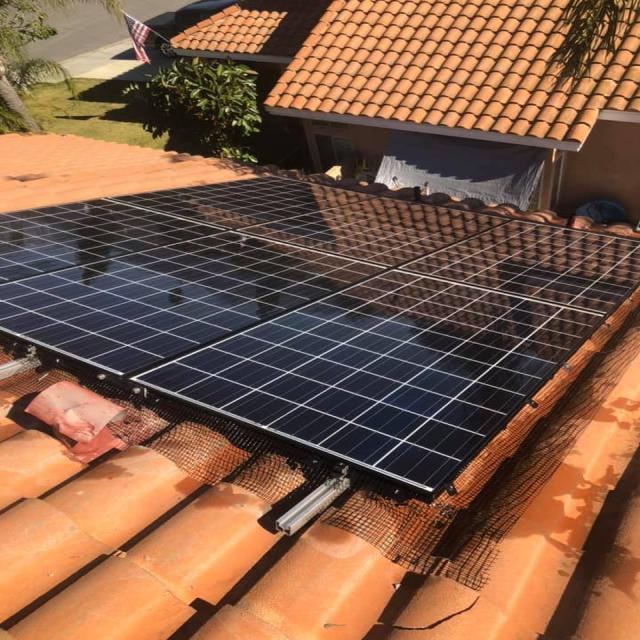clean-solar-panel: (2, 178, 638, 494)
